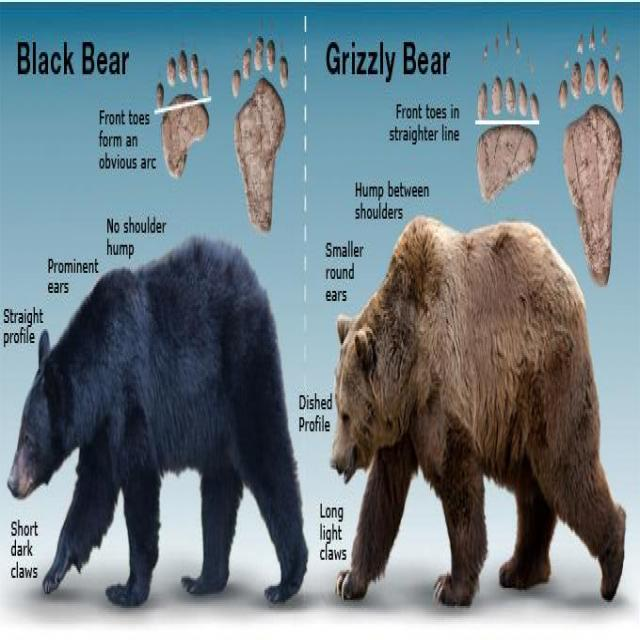Bear: (329, 217, 628, 610), (8, 237, 310, 612)
